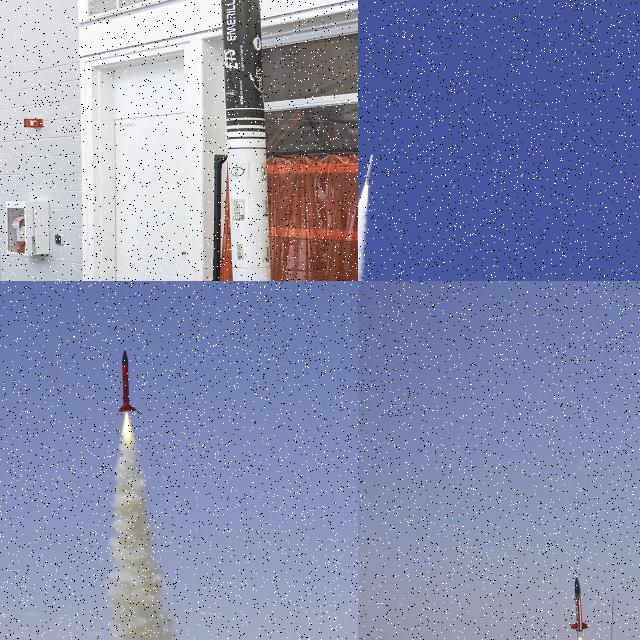Rocket: (221, 0, 271, 281), (118, 350, 137, 412), (570, 576, 588, 632), (362, 154, 374, 186)
